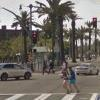cars: (0, 62, 33, 83)
